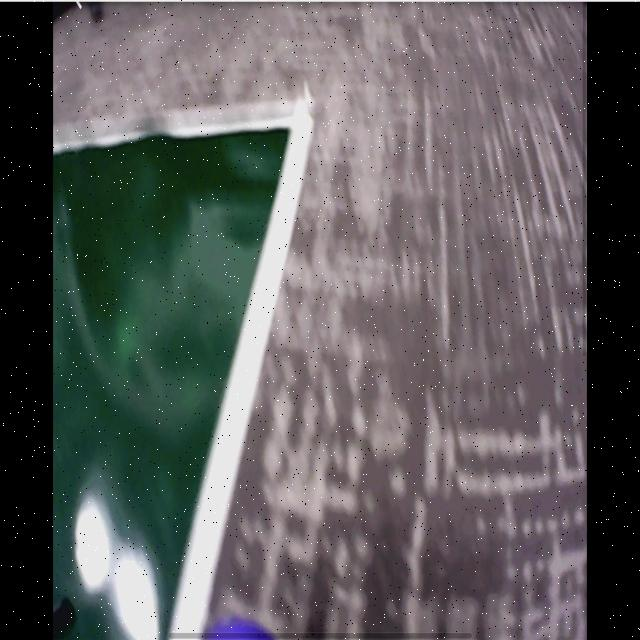ball: (209, 619, 276, 640)
